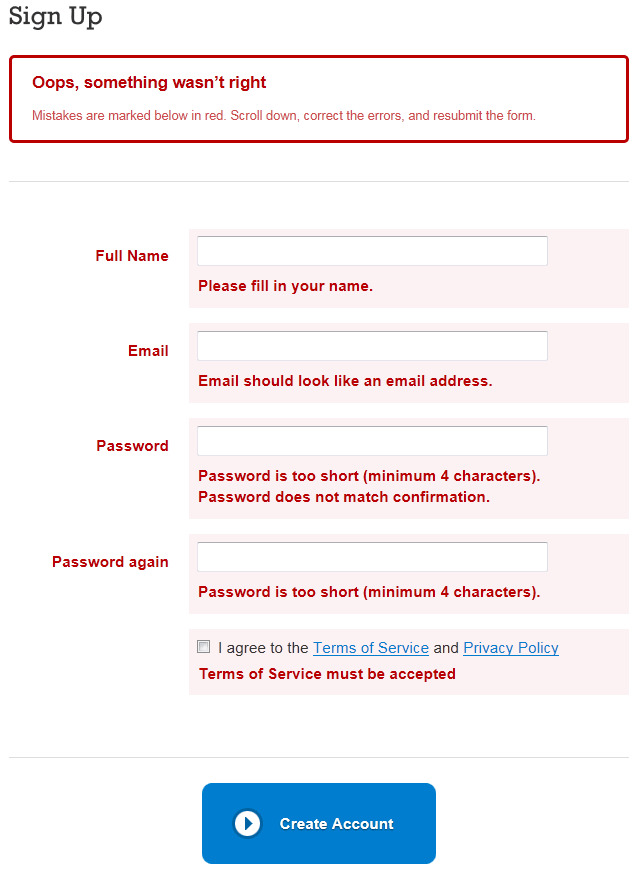error_message: (196, 471, 540, 504), (30, 107, 538, 124), (197, 374, 495, 392), (198, 584, 540, 598), (32, 73, 271, 93), (200, 665, 460, 681), (198, 278, 371, 297), (50, 554, 167, 570), (93, 248, 168, 265), (94, 439, 170, 453), (124, 344, 169, 357)
